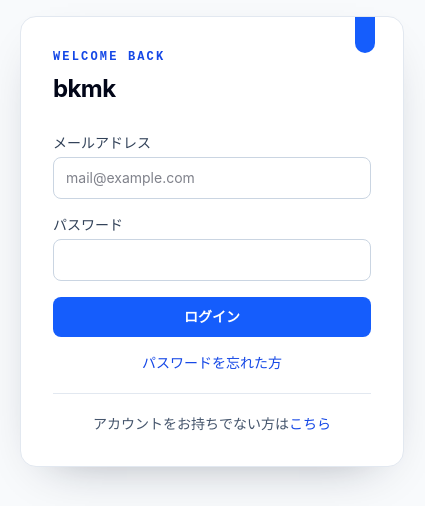
Test case: LoginPage › アカウント作成モードに切り替えられる
Click the button "こちら": (310, 424) 289,414 -> 331,434
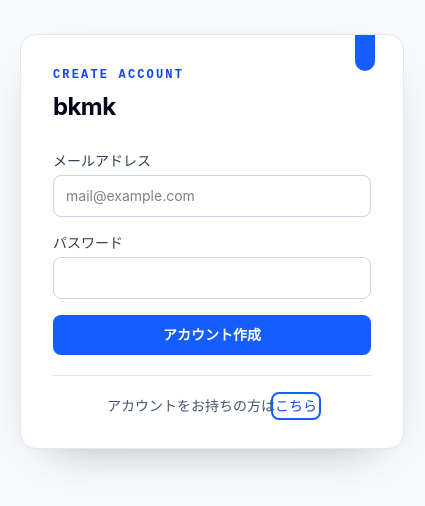
Now the button "アカウント作成" is shown, box 53,314 -> 371,354
